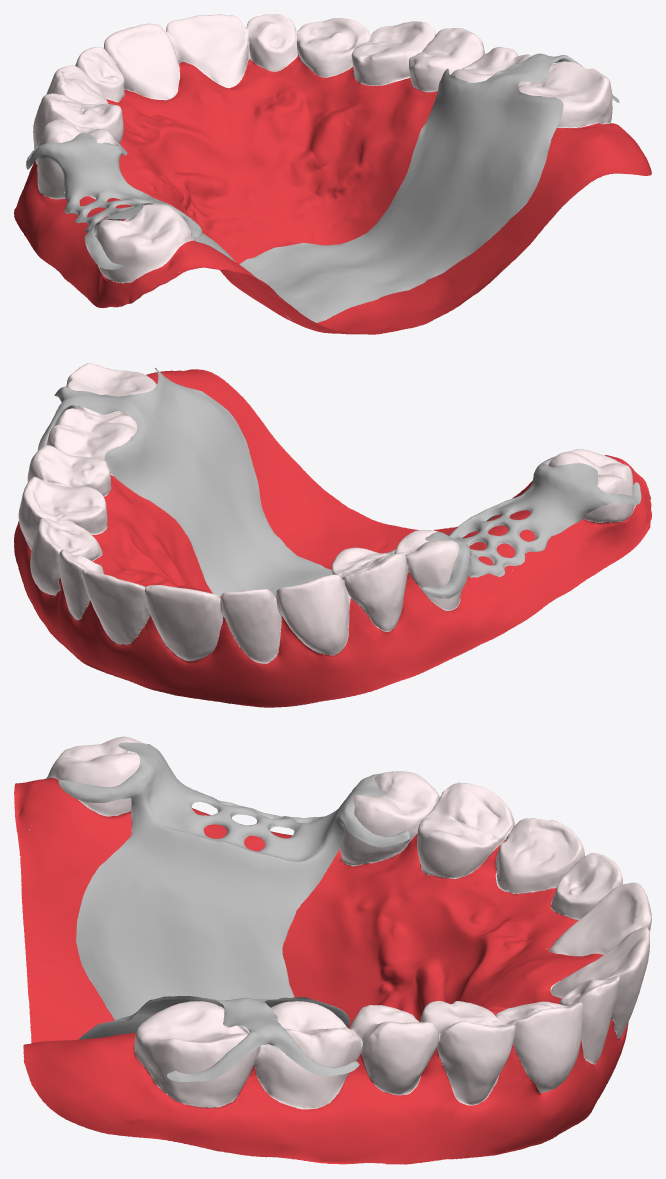
Rendered from 1756915765967-06_cast+teeth-draco.glb.
3 views of the same model, one above another, from view 1: azimuth 30°, elevation 25°; view 2: azimuth 150°, elevation 25°; view 3: azimuth 270°, elevation 25° (orthographic). The views are drawn at different scales.
Visible parts, largest first — view 1: 06_teeth, 06_cast; view 2: 06_teeth, 06_cast; view 3: 06_teeth, 06_cast.
Part boxes in pixels (left/top/right/bottom): 06_teeth: left=14, top=14, right=651, bottom=334; 06_cast: left=26, top=53, right=619, bottom=322; 06_teeth: left=14, top=363, right=651, bottom=707; 06_cast: left=37, top=368, right=641, bottom=599; 06_teeth: left=14, top=736, right=651, bottom=1164; 06_cast: left=58, top=742, right=410, bottom=1082.
Bounding box in the file's own units: 68.54 × 20.42 × 55.53.
